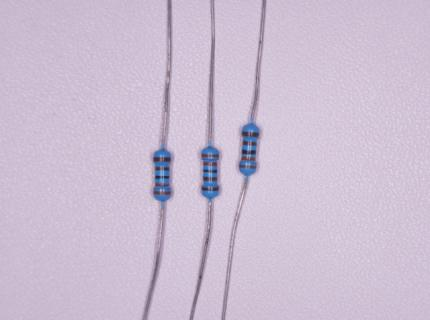Black band: (203, 168, 218, 173), (242, 150, 256, 155), (155, 175, 170, 179)
Brown band: (242, 131, 259, 138), (242, 141, 257, 146), (201, 187, 219, 191), (153, 157, 171, 161), (203, 177, 217, 182), (155, 166, 169, 171)
Orange band: (239, 165, 257, 169), (154, 191, 171, 195), (155, 183, 169, 187), (203, 162, 217, 166), (201, 154, 219, 157), (242, 157, 255, 161)
